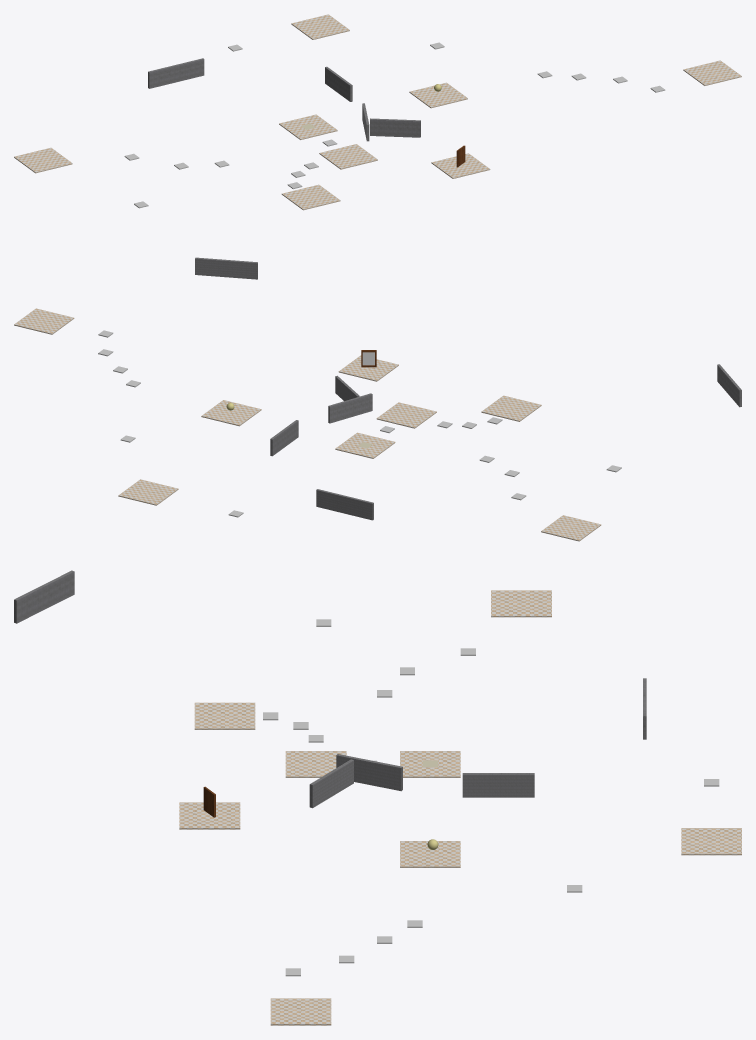
File: level2g.dae
3 renders of one model, top to bottom at view 1: azimuth 30°, elevation 25°; view 2: azimuth 150°, elevation 25°; view 3: azimuth 270°, elevation 25°, orthographic. The views are drawn at different scales.
Parts seen in each view (by area): view 1: WallX_002, WallX_001, WallX3, Floor1, Floor5, Floor1_005, Floor1_006, Floor1_007, Floor1_004, Floor7, Floor1_003, WallX2; view 2: WallX_001, Floor5, Floor1_006, Floor1, Floor1_005, Floor1_007, Floor7, Floor1_004, WallX1, Floor1_003, WallX2, WallX_002; view 3: WallX2, Floor1_007, Floor1, Floor1_005, Floor1_006, WallX_002, Floor1_003, Floor1_004, Floor7, WallX1, Floor5, WallX3.
Part boxes in pixels (x1,y1,x2,y2): WallX_002: (195,257,257,279); WallX_001: (148,58,204,88); WallX3: (370,118,420,137); Floor1: (281,184,340,210); Floor5: (319,144,377,169); Floor1_005: (14,147,72,173); Floor1_006: (291,14,349,39); Floor1_007: (683,60,741,85); Floor1_004: (409,82,467,108); Floor7: (279,114,337,139); Floor1_003: (431,153,490,178); WallX2: (325,66,352,101); WallX_001: (316,489,373,520); Floor5: (376,402,436,428); Floor1_006: (118,479,178,505); Floor1: (481,395,541,421); Floor1_005: (541,515,601,541); Floor1_007: (14,308,74,334); Floor7: (335,432,395,458); Floor1_004: (201,400,261,426); WallX1: (328,393,372,423); Floor1_003: (338,355,398,381); WallX2: (270,420,298,456); WallX_002: (717,364,741,407); WallX2: (462,773,534,797); Floor1_007: (270,998,331,1025); Floor1: (194,702,255,729); Floor1_005: (491,590,551,617); Floor1_006: (681,828,741,855); WallX_002: (14,570,74,623); Floor1_003: (179,802,240,829); Floor1_004: (400,841,460,867); Floor7: (400,751,460,777); WallX1: (336,754,402,791); Floor5: (285,751,346,777); WallX3: (309,759,353,808).
Size of the model in its own units: 135 by 95.75 by 4.22.
